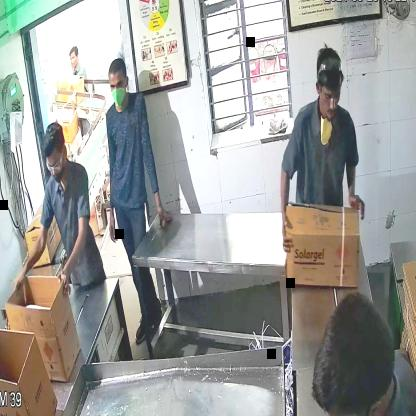goggles: (43, 153, 67, 175)
no_goggles: (313, 80, 342, 104), (106, 74, 127, 94)
